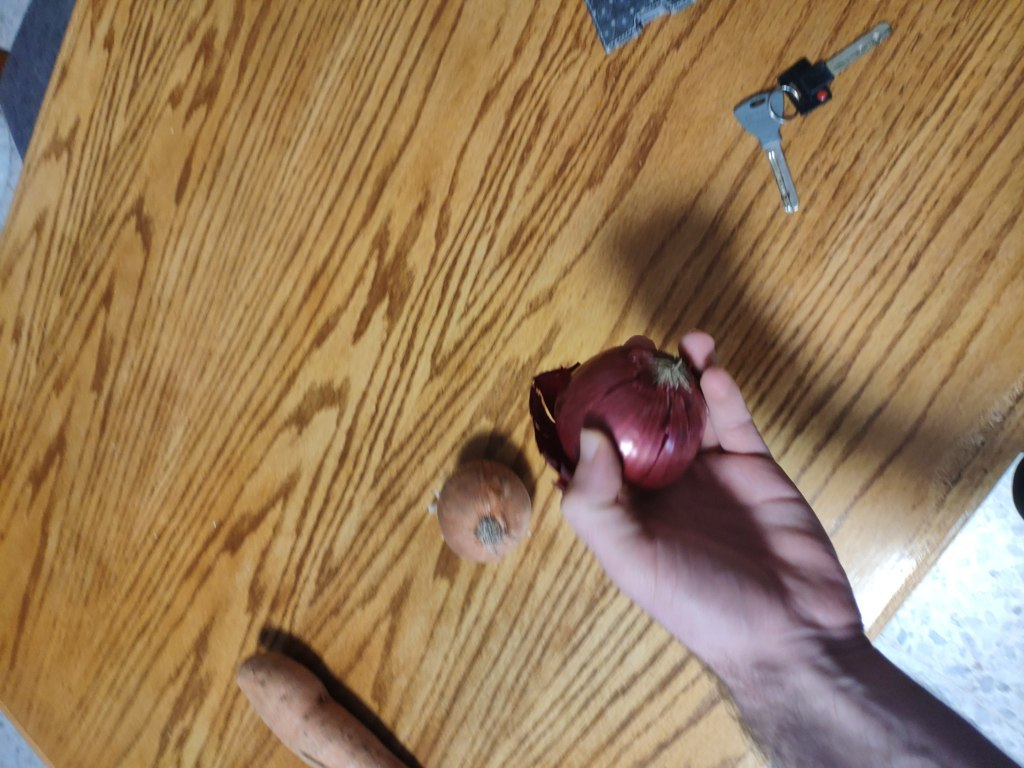Onion: (568, 345, 694, 484), (443, 459, 558, 575)
